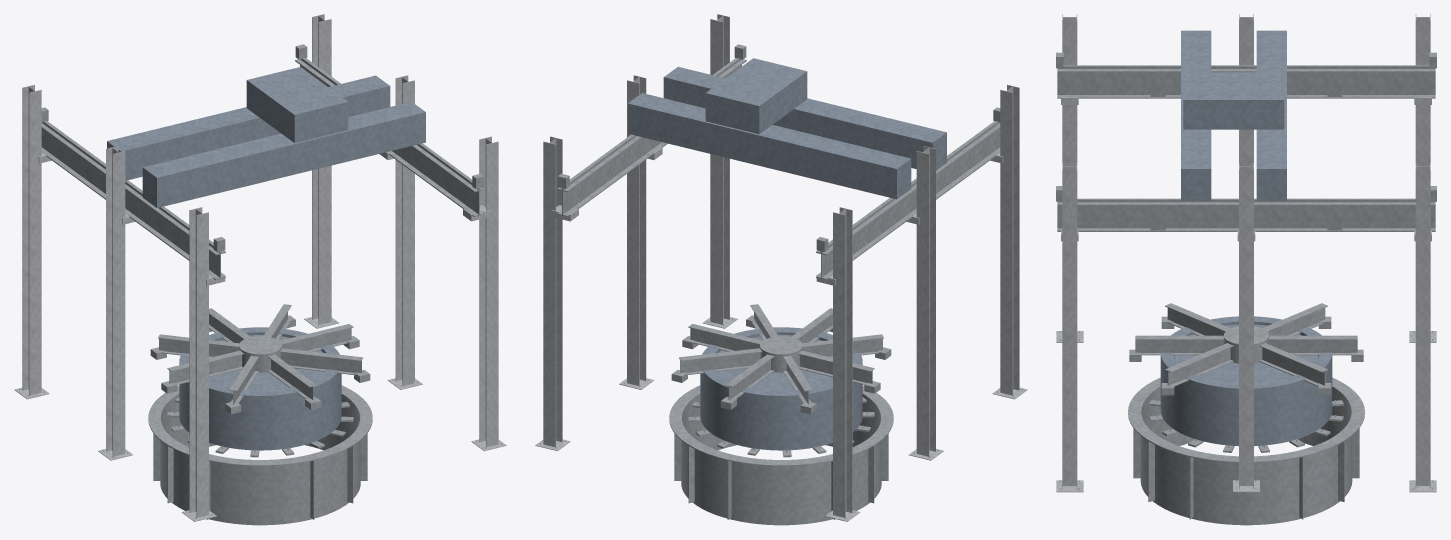
The model's file is turbine-and-generator-housing-structures.glb.
The picture shows the model from 3 angles, left to right: view 1: azimuth 30°, elevation 25°; view 2: azimuth 150°, elevation 25°; view 3: azimuth 270°, elevation 25°; orthographic projection. The views are drawn at different scales.
Parts seen in each view (by area): view 1: PowerhouseColumns, EOTCrane(context), PitLiner, Generator(context), UpperBracket, CraneGirders&Rails, StatorSolePlates; view 2: PowerhouseColumns, EOTCrane(context), PitLiner, Generator(context), UpperBracket, CraneGirders&Rails, StatorSolePlates; view 3: PowerhouseColumns, CraneGirders&Rails, PitLiner, EOTCrane(context), Generator(context), UpperBracket, StatorSolePlates.
Boxes of the visible parts, box(x1,y1,x2,y2) form: PowerhouseColumns: box(14, 14, 506, 521); EOTCrane(context): box(107, 67, 425, 207); PitLiner: box(148, 385, 372, 525); Generator(context): box(179, 327, 341, 450); UpperBracket: box(150, 304, 370, 414); CraneGirders&Rails: box(41, 44, 484, 280); StatorSolePlates: box(167, 397, 353, 457); PowerhouseColumns: box(535, 14, 1027, 521); EOTCrane(context): box(628, 58, 946, 199); PitLiner: box(669, 385, 893, 525); Generator(context): box(700, 327, 862, 450); UpperBracket: box(671, 304, 891, 414); CraneGirders&Rails: box(557, 44, 1000, 280); StatorSolePlates: box(688, 397, 874, 457); PowerhouseColumns: box(1056, 14, 1436, 492); CraneGirders&Rails: box(1056, 52, 1436, 231); PitLiner: box(1128, 377, 1364, 525); EOTCrane(context): box(1181, 30, 1286, 200); Generator(context): box(1160, 316, 1332, 446); UpperBracket: box(1129, 303, 1363, 395); StatorSolePlates: box(1149, 400, 1343, 452).
Size of the model in its own units: 15.08 by 17.95 by 15.1.
3 materials, 3 textured.
